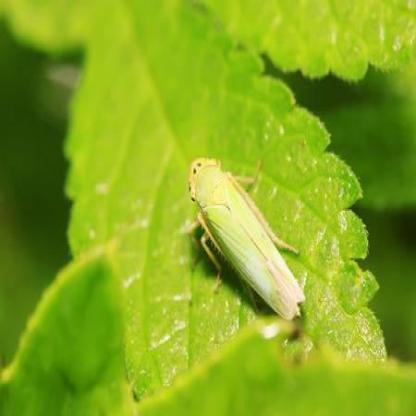Green-Leafhopper: (184, 150, 307, 320)
